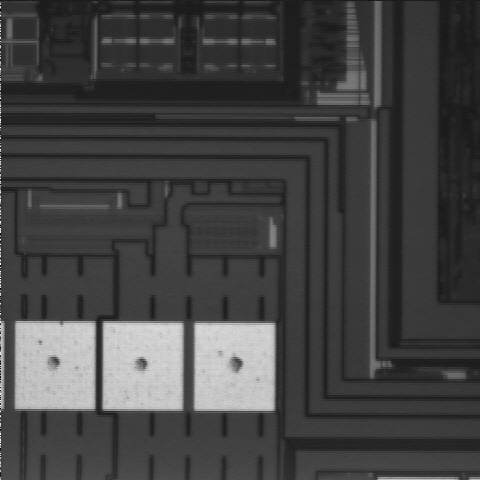pad: (195, 323, 274, 411), (103, 323, 183, 409), (16, 323, 95, 409)
